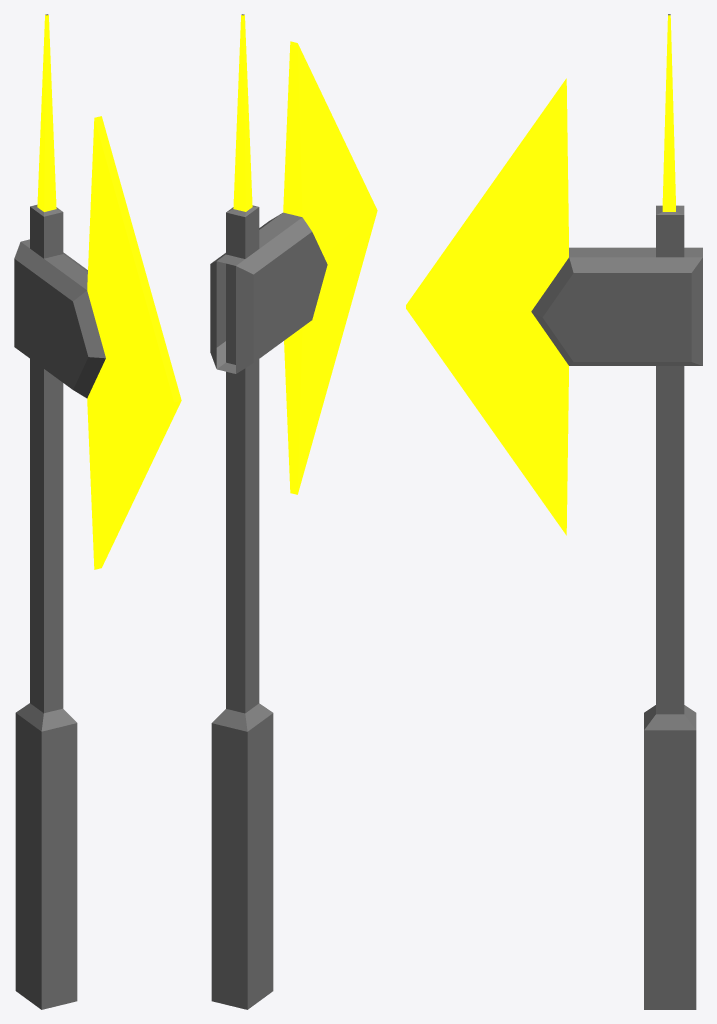
File: Halberd.fbx
3 renders of one model, left to right at view 1: azimuth 30°, elevation 25°; view 2: azimuth 150°, elevation 25°; view 3: azimuth 270°, elevation 25°, orthographic.
Visible parts, largest first — view 1: Halberd; view 2: Halberd; view 3: Halberd.
Boxes of the visible parts, x1,y1,x2,y2 form: Halberd: [14, 14, 181, 1009]; Halberd: [210, 14, 377, 1009]; Halberd: [406, 14, 702, 1009].
Bounding box in the file's own units: 33.52 × 198 × 726.
